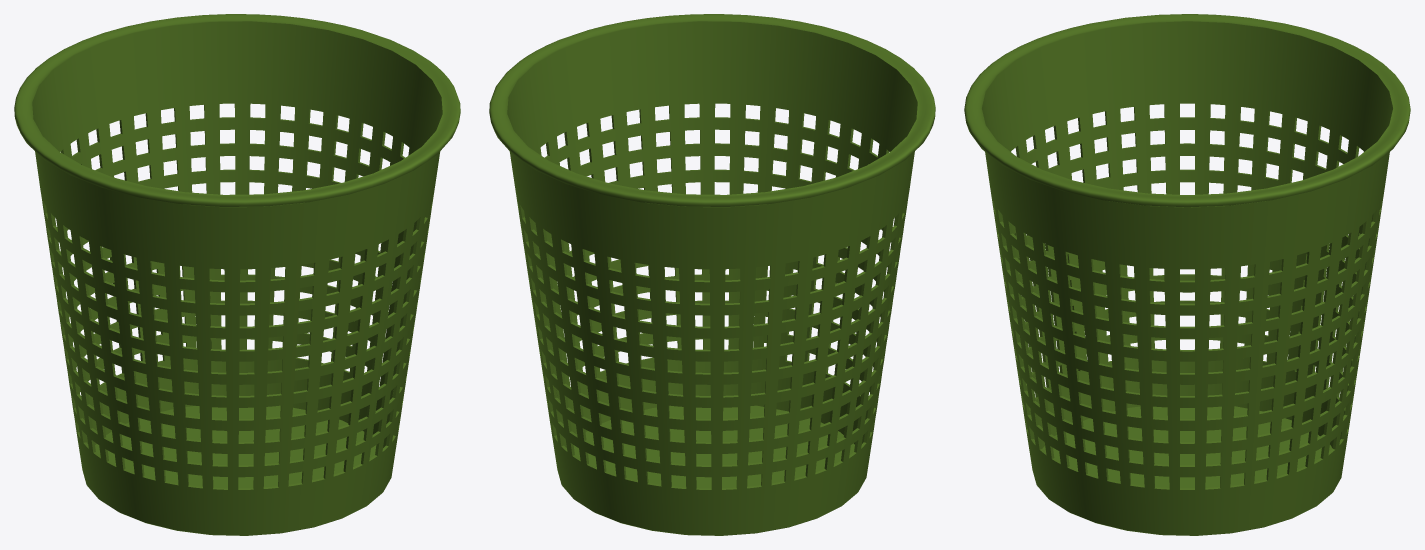
File: waste_bin.dae
3 renders of one model, left to right at view 1: azimuth 30°, elevation 25°; view 2: azimuth 150°, elevation 25°; view 3: azimuth 270°, elevation 25°, orthographic.
Parts seen in each view (by area): view 1: waste_bin; view 2: waste_bin; view 3: waste_bin.
Boxes of the visible parts, left/top/right/bottom form: waste_bin: left=14, top=14, right=460, bottom=535; waste_bin: left=489, top=14, right=935, bottom=535; waste_bin: left=964, top=14, right=1410, bottom=535.
Size of the model in its own units: 0.293 by 0.293 by 0.2637.
